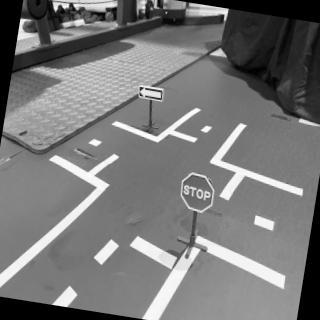sign_oneway_left: (137, 85, 167, 105)
sign_stop: (179, 173, 220, 219)
